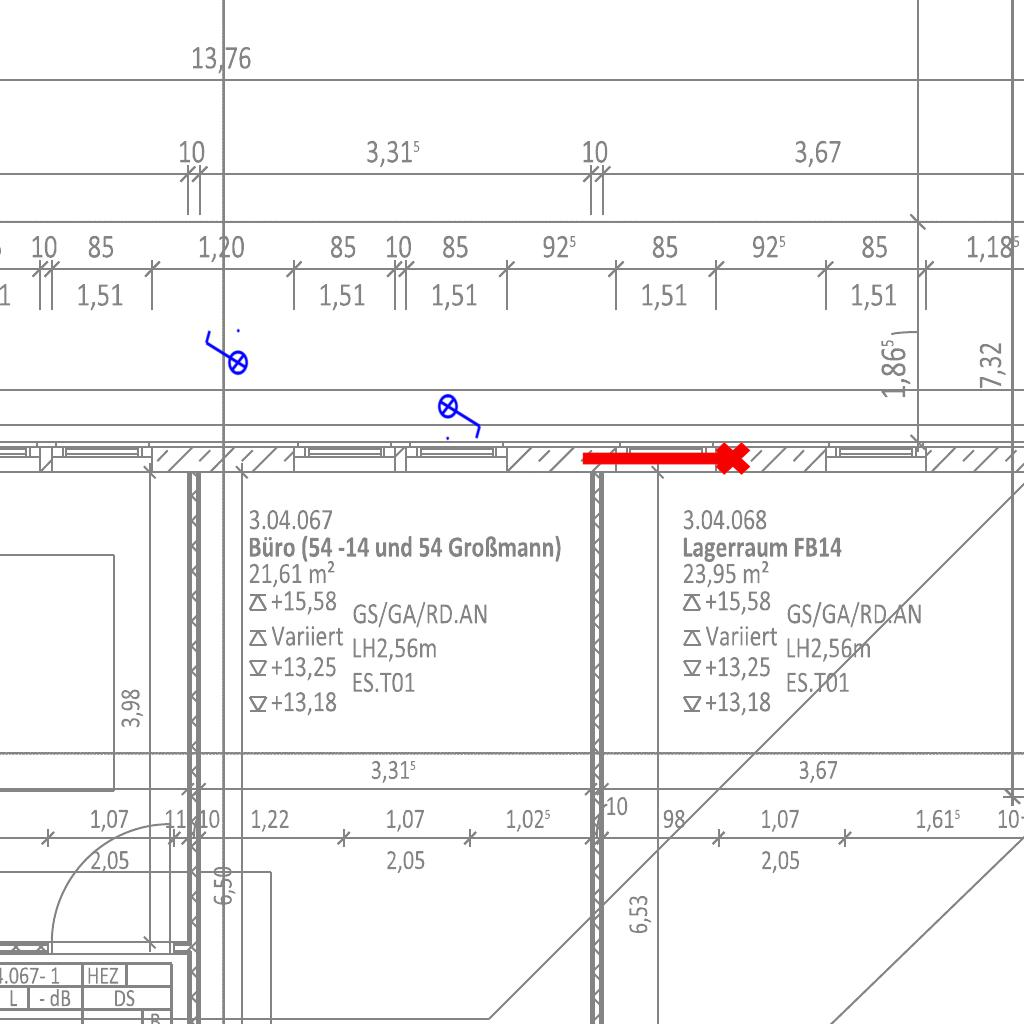ASR_Ansaugoeffnung: (577, 438, 753, 484)
Ausschalter_beleuchtet: (201, 326, 249, 382), (437, 387, 485, 443)
